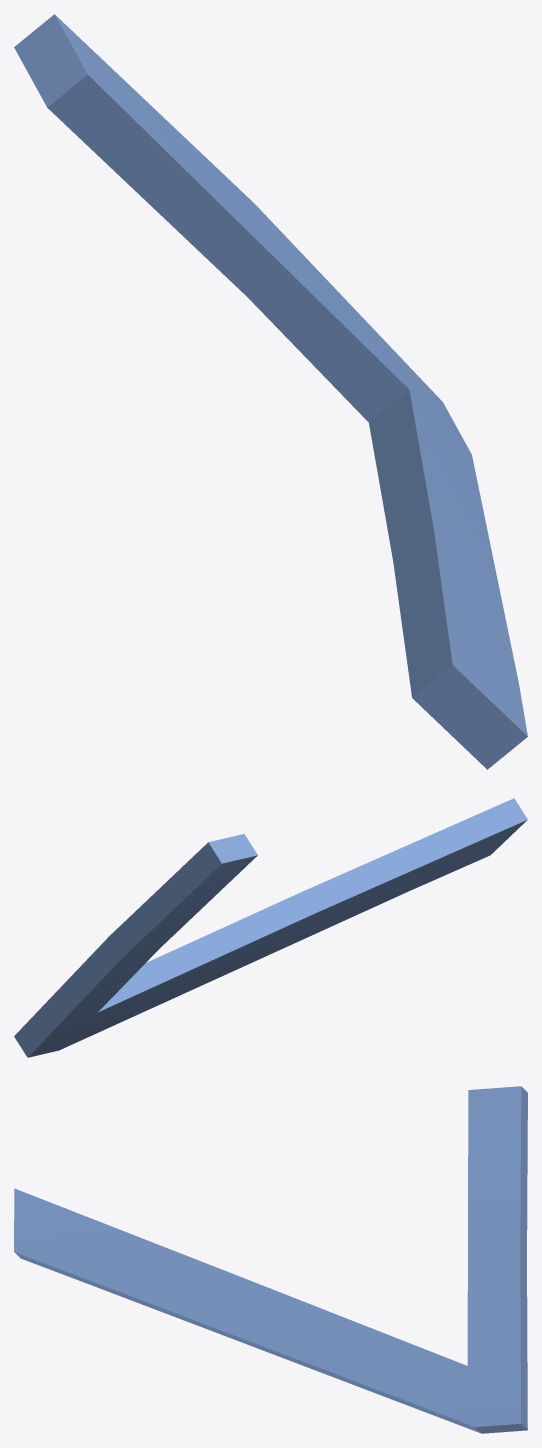
File: Number_7.gltf
3 renders of one model, top to bottom at view 1: azimuth 30°, elevation 25°; view 2: azimuth 150°, elevation 25°; view 3: azimuth 270°, elevation 25°, orthographic. The views are drawn at different scales.
Visible parts, largest first — view 1: Sub_7_Cell_3_1_Number_7; view 2: Sub_7_Cell_3_1_Number_7; view 3: Sub_7_Cell_3_1_Number_7.
Boxes of the visible parts, x1,y1,x2,y2 form: Sub_7_Cell_3_1_Number_7: (14, 14, 527, 769); Sub_7_Cell_3_1_Number_7: (14, 798, 527, 1057); Sub_7_Cell_3_1_Number_7: (14, 1086, 527, 1433).
Size of the model in its own units: 0.0147 by 0.014 by 0.0246.
